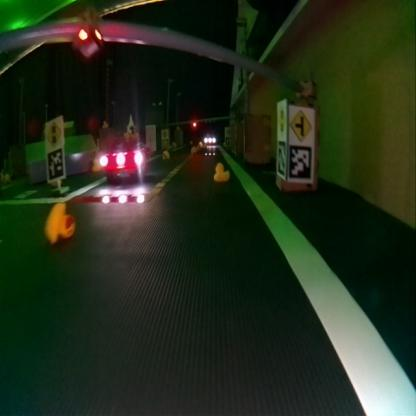Duckie: (44, 203, 73, 242), (213, 162, 228, 179), (162, 150, 169, 159)
Duckiebot: (98, 132, 150, 178), (202, 132, 217, 144)
Intersection sign: (289, 107, 314, 142)
QR code: (287, 146, 310, 180), (46, 148, 63, 180), (276, 140, 286, 178)
Signal sign: (45, 121, 60, 144), (277, 105, 285, 135)
Traffic light: (73, 21, 103, 60), (193, 120, 198, 128)
